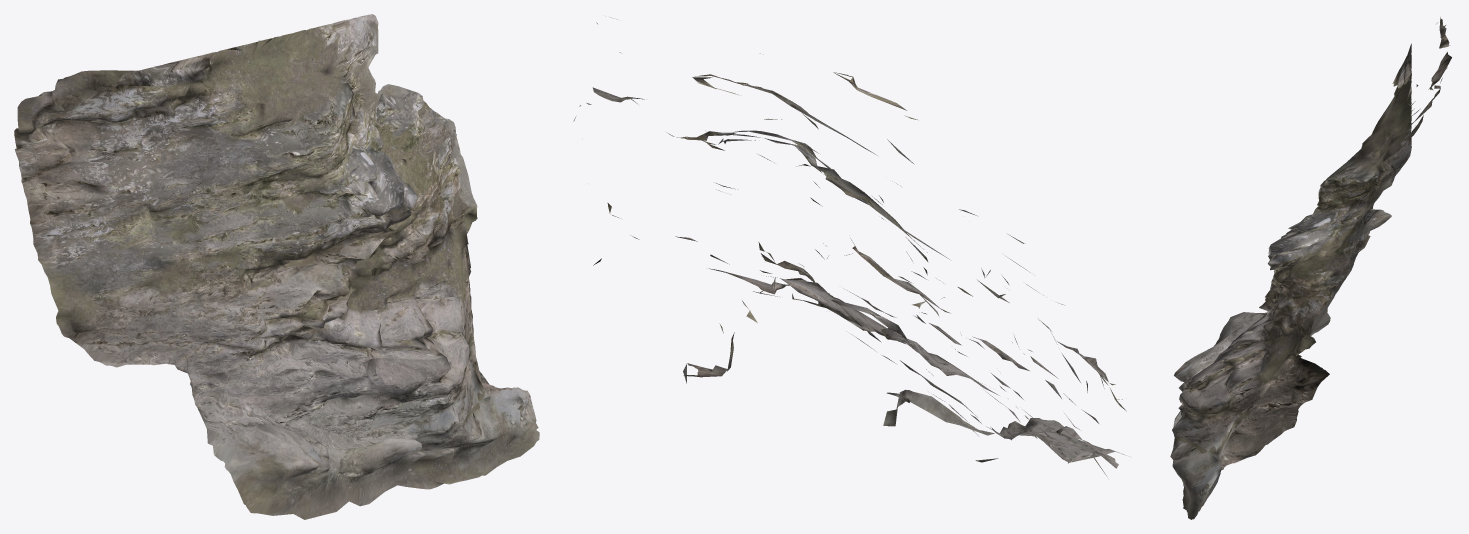
Rendered from cliff_b_lod1.glb.
3 views of the same model, side by side, from view 1: azimuth 30°, elevation 25°; view 2: azimuth 150°, elevation 25°; view 3: azimuth 270°, elevation 25° (orthographic). The views are drawn at different scales.
Parts seen in each view (by area): view 1: cliff_b_lod1; view 2: cliff_b_lod1; view 3: cliff_b_lod1.
Boxes of the visible parts, bbox=[...] form: cliff_b_lod1: bbox=[14, 14, 539, 519]; cliff_b_lod1: bbox=[573, 17, 1126, 475]; cliff_b_lod1: bbox=[1170, 17, 1451, 519].
Bounding box in the file's own units: 28.01 × 25.53 × 18.31.
Materials: 1 (1 with a texture image).
